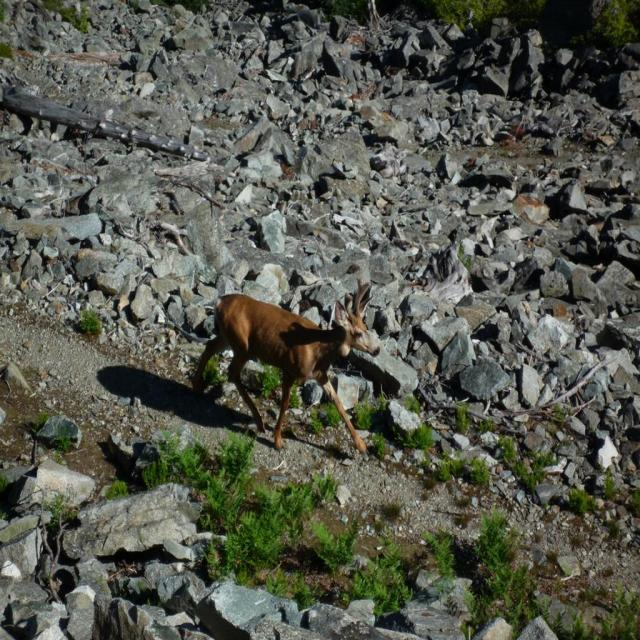Deer: (191, 280, 378, 455)
